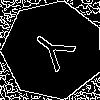Y: (27, 25, 85, 79)
